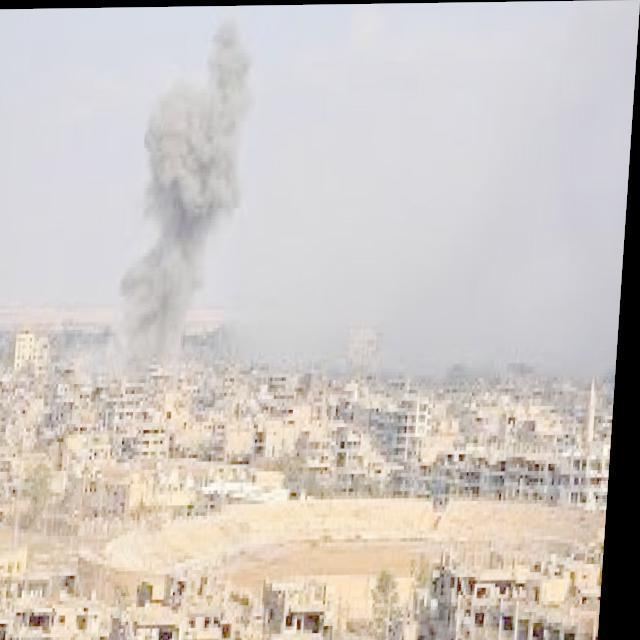Smoke: (231, 0, 640, 365), (112, 6, 260, 391)
